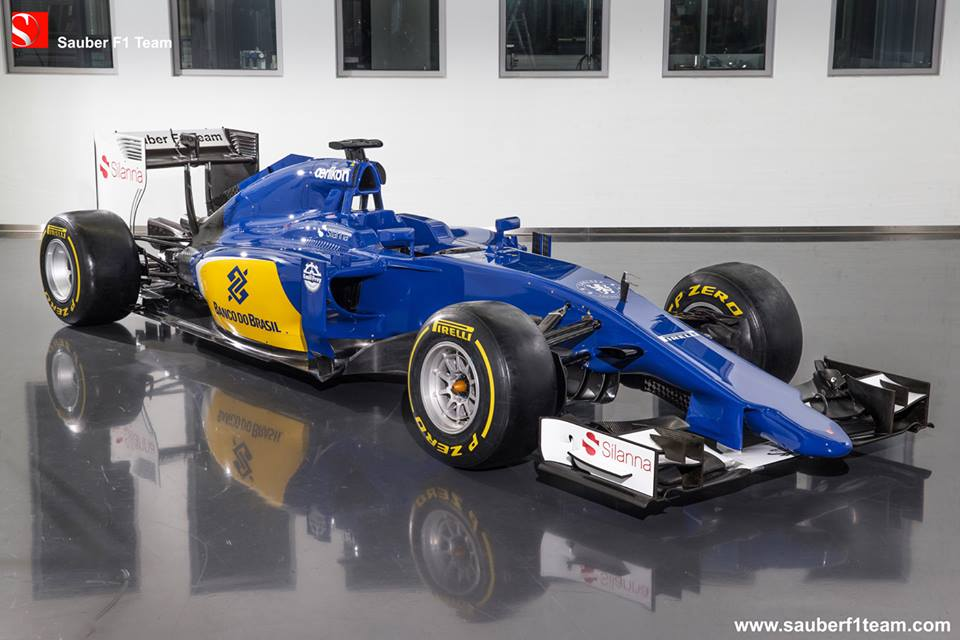f1_car: (30, 106, 950, 543)
